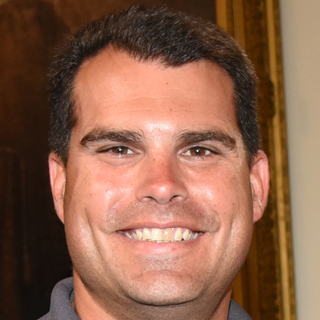eye: (177, 140, 225, 164), (93, 140, 143, 163)
